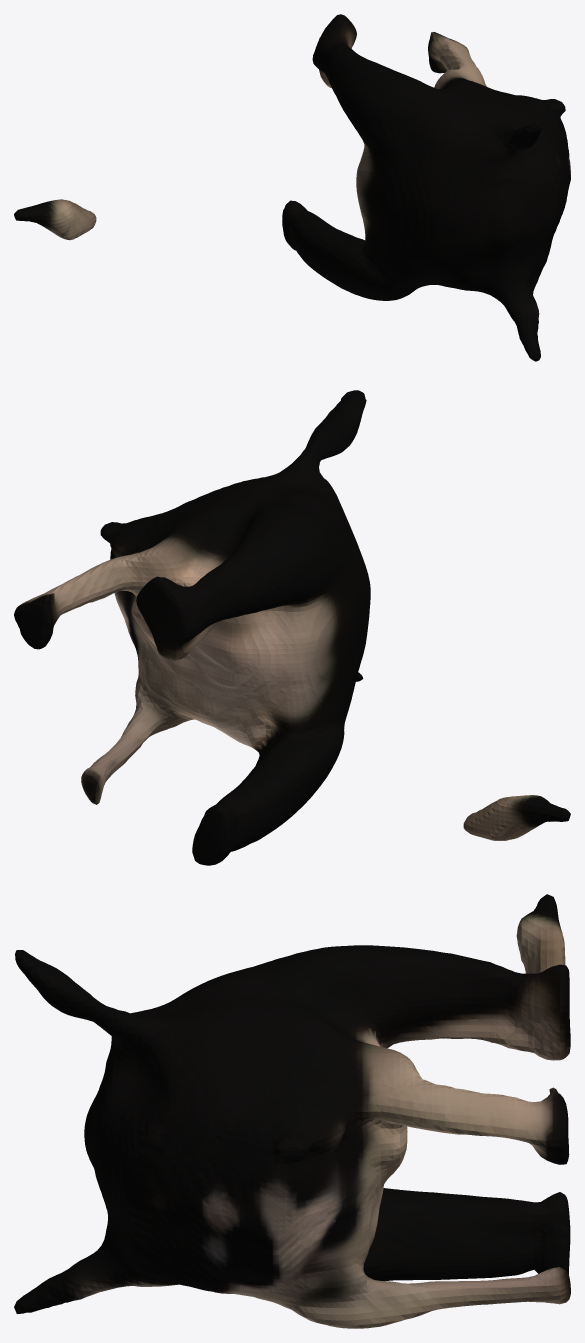
The model's file is cat_1749671301.obj.
3 views of the same model, one above another, from view 1: azimuth 30°, elevation 25°; view 2: azimuth 150°, elevation 25°; view 3: azimuth 270°, elevation 25° (orthographic). The views are drawn at different scales.
Size of the model in its own units: 1.98 by 0.9877 by 1.35.
